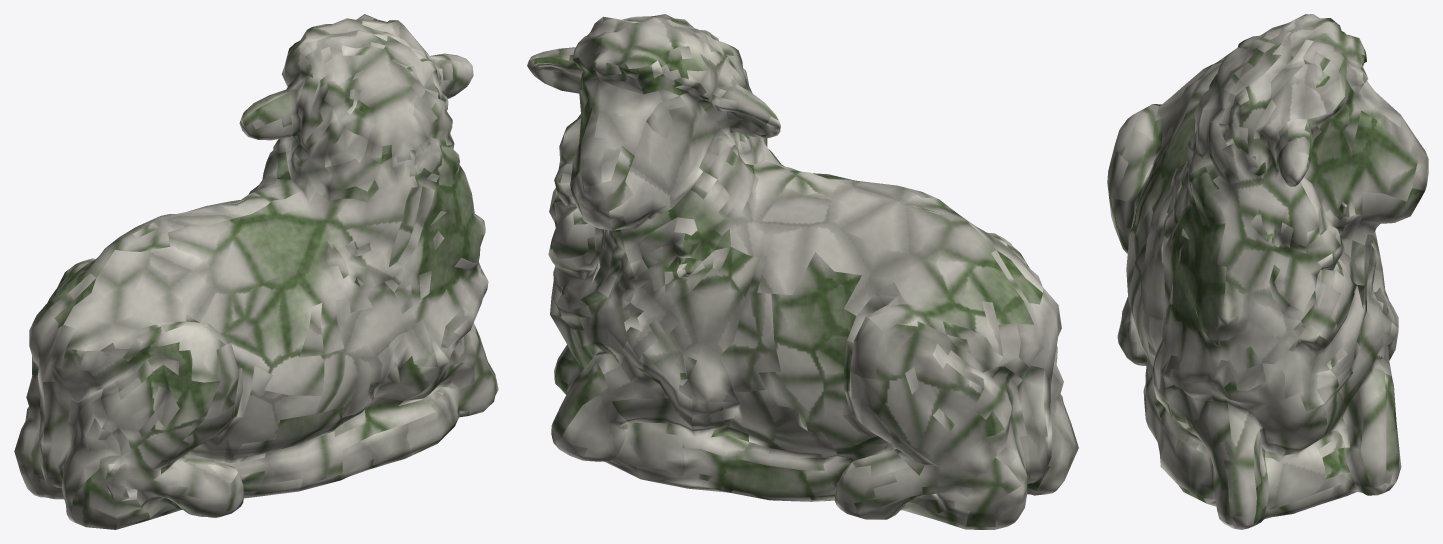
File: stone_sheep.obj
The picture shows the model from 3 angles, left to right: view 1: azimuth 30°, elevation 25°; view 2: azimuth 150°, elevation 25°; view 3: azimuth 270°, elevation 25°; orthographic projection. The views are drawn at different scales.
Visible parts, largest first — view 1: stone_sheep; view 2: stone_sheep; view 3: stone_sheep.
Boxes of the visible parts, x1=… form: stone_sheep: x1=14, y1=14, x2=498, y2=529; stone_sheep: x1=527, y1=14, x2=1078, y2=529; stone_sheep: x1=1107, y1=14, x2=1428, y2=529.
Bounding box in the file's own units: 0.75 × 0.612 × 0.4.
Materials: 1 (1 with a texture image).
